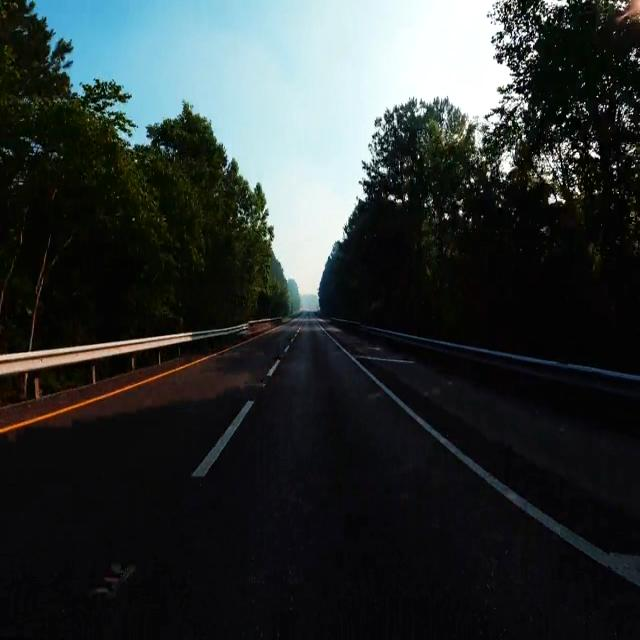lane: (319, 324, 640, 586), (0, 342, 246, 434), (192, 400, 252, 478)
road: (0, 319, 640, 637), (323, 322, 640, 555)
